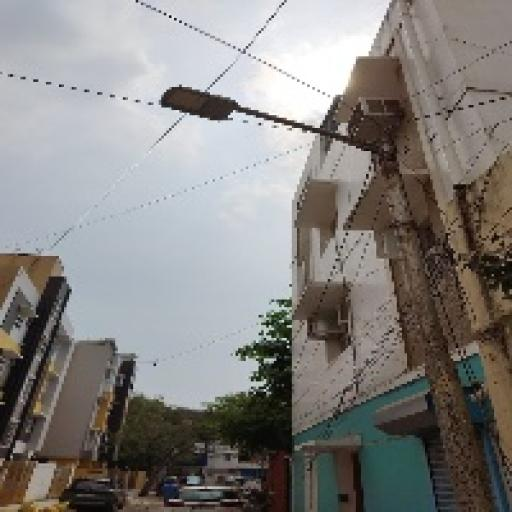Not Working: (150, 76, 243, 132)
